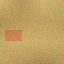vehicle: (4, 30, 21, 41)
